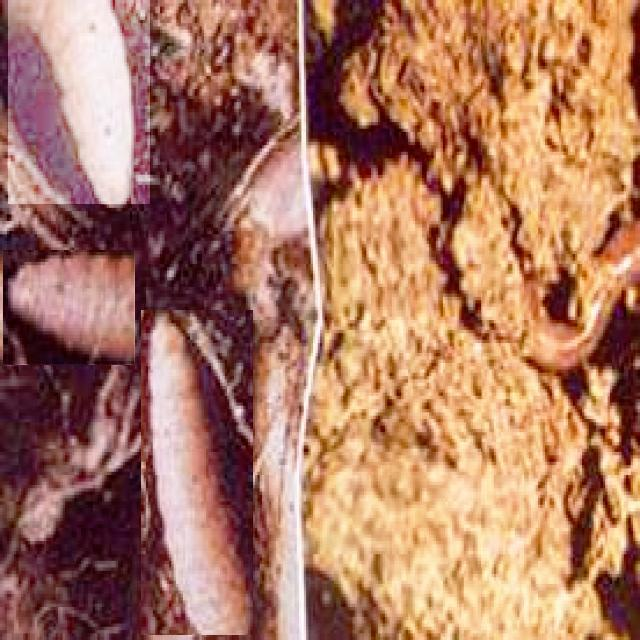whorl-maggot: (142, 310, 252, 635), (8, 0, 150, 204), (4, 251, 134, 364)
